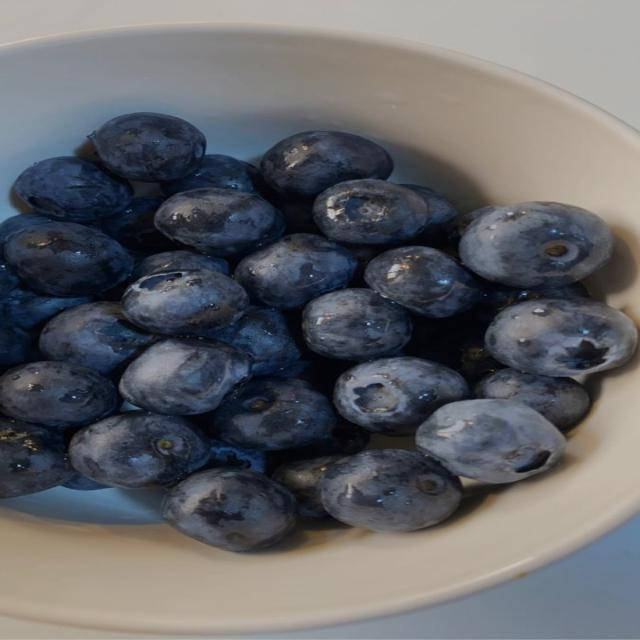blueberry: (459, 202, 613, 288), (417, 399, 565, 483), (486, 299, 637, 376), (320, 450, 461, 531), (163, 469, 296, 551), (69, 411, 209, 488), (334, 357, 468, 435), (120, 339, 250, 415), (5, 222, 132, 296), (208, 379, 336, 450), (235, 234, 356, 308), (155, 188, 284, 257), (261, 131, 393, 198), (122, 269, 249, 335), (365, 246, 481, 317), (39, 302, 154, 372), (90, 112, 205, 182), (303, 289, 412, 361), (15, 157, 132, 222), (0, 362, 117, 427), (313, 180, 428, 244), (474, 368, 590, 430), (407, 312, 503, 382), (207, 307, 300, 375), (0, 416, 73, 498), (475, 282, 590, 323), (273, 456, 341, 517), (101, 197, 174, 253), (161, 155, 260, 195), (0, 288, 93, 329), (271, 353, 352, 396), (286, 420, 370, 459), (402, 184, 457, 238), (132, 251, 229, 279), (207, 439, 271, 473), (270, 197, 320, 234), (0, 322, 35, 370), (348, 245, 386, 286), (0, 213, 53, 242), (457, 206, 496, 235), (62, 473, 109, 491), (0, 258, 19, 299)
